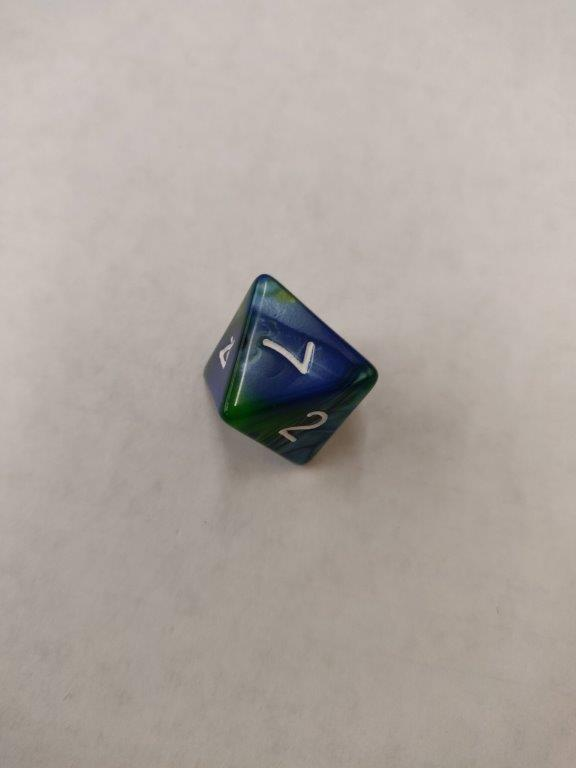d8-7: (201, 274, 378, 467)
